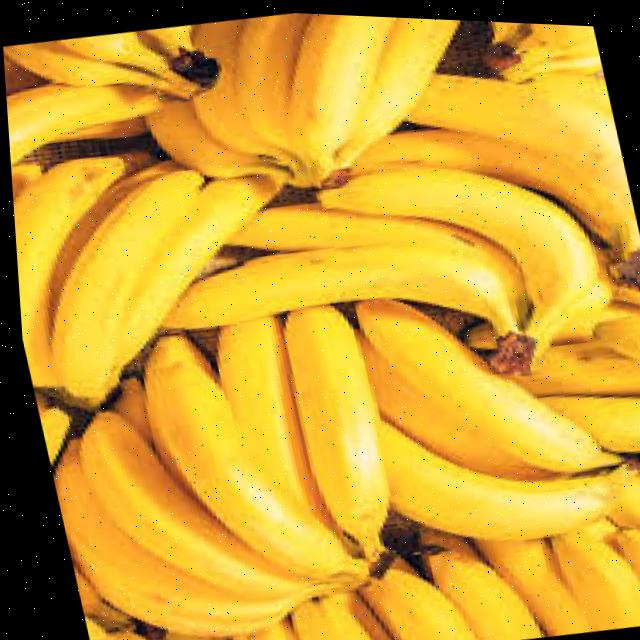Banana: (139, 334, 359, 592), (319, 163, 597, 353), (54, 171, 276, 398), (76, 411, 315, 599), (354, 297, 589, 467), (49, 171, 193, 396), (160, 241, 513, 328), (377, 418, 606, 536), (358, 335, 553, 472), (278, 303, 383, 557), (11, 155, 121, 385), (216, 314, 327, 529), (286, 11, 398, 177), (225, 202, 507, 266), (407, 71, 618, 155), (5, 84, 157, 168), (470, 535, 582, 632), (420, 547, 532, 640), (546, 516, 640, 626), (354, 565, 468, 640), (285, 590, 384, 640)
